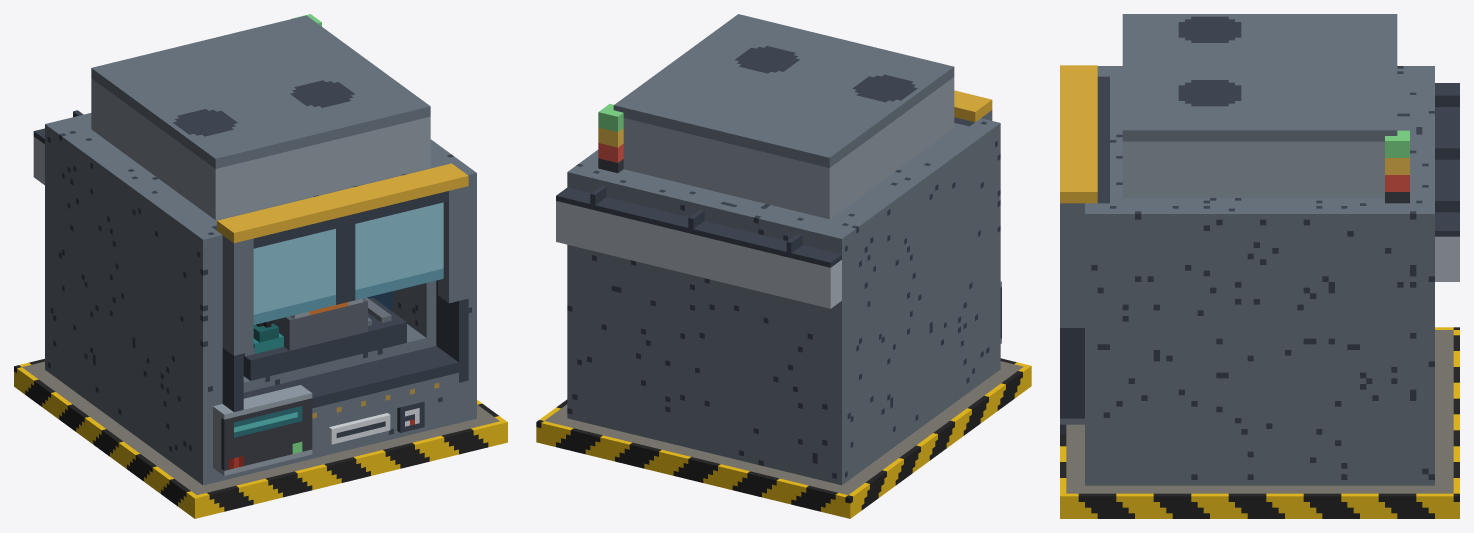
The model's file is assembler.obj.
The picture shows the model from 3 angles, left to right: view 1: azimuth 30°, elevation 25°; view 2: azimuth 150°, elevation 25°; view 3: azimuth 270°, elevation 25°; orthographic projection. The views are drawn at different scales.
Parts seen in each view (by area): view 1: assembler; view 2: assembler; view 3: assembler.
Part boxes in pixels (x1=…): assembler: x1=14, y1=14, x2=507, y2=518; assembler: x1=536, y1=14, x2=1031, y2=518; assembler: x1=1060, y1=14, x2=1459, y2=518.
Size of the model in its own units: 2 by 2 by 2.
